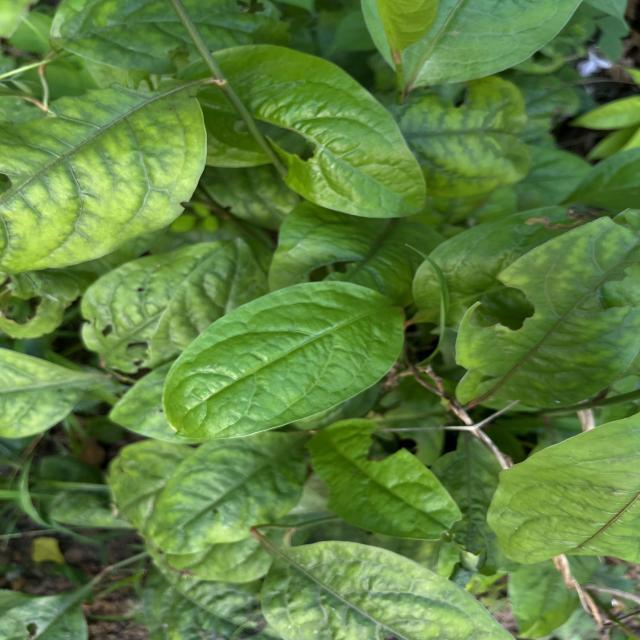Plumbago indica: (176, 38, 433, 224), (159, 277, 402, 447), (138, 426, 313, 558), (305, 412, 467, 544)
